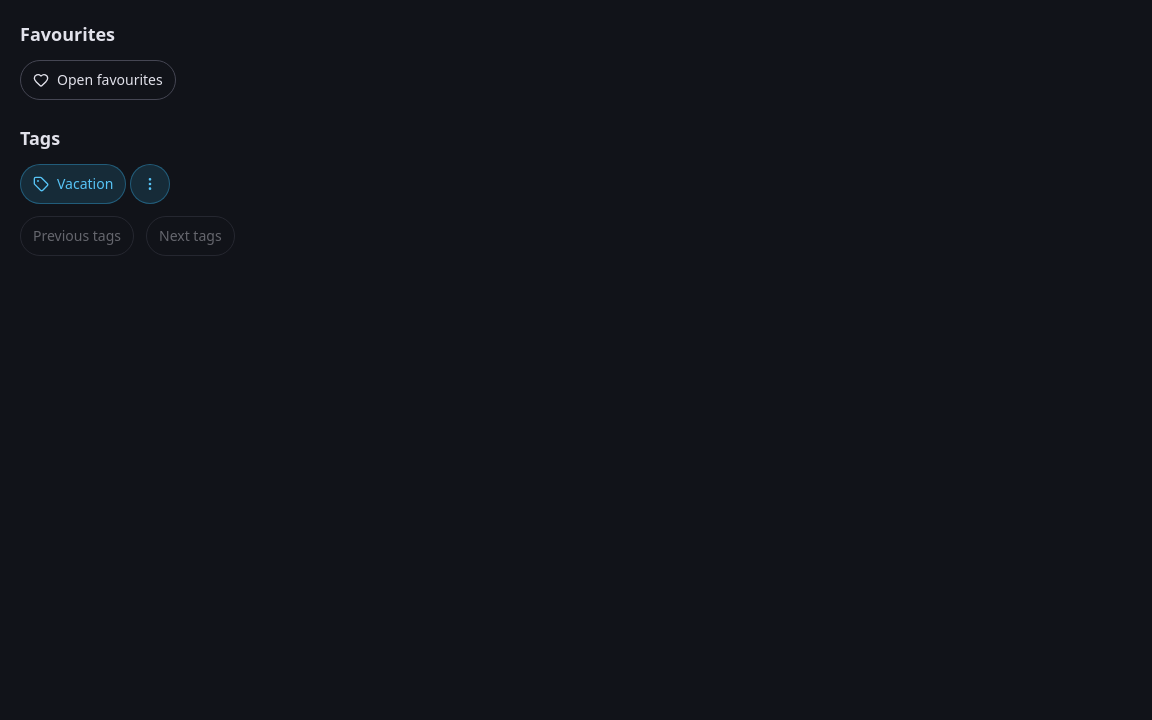
renames a tag from the manage dialog reached by its button
Click the button named "Manage tag Vacation": x=150, y=184 [130,164,170,204]
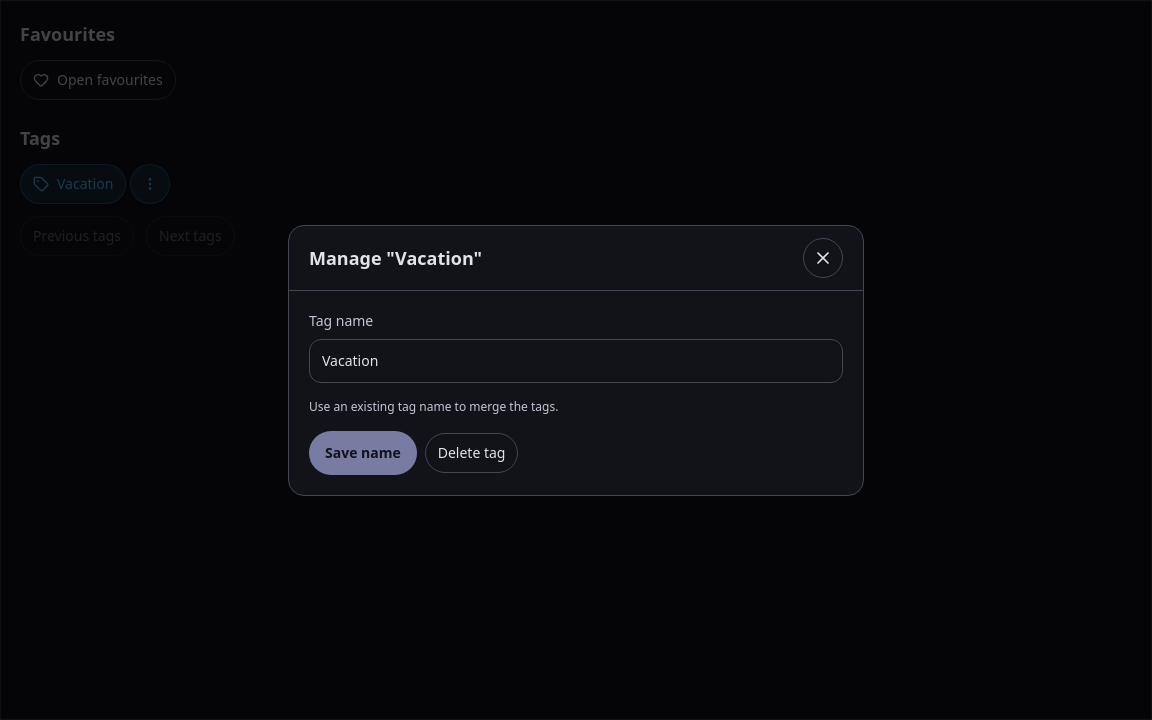
Replace the text in the field labelled "Tag name" with "Travel": x=576, y=360 [309,338,843,382]
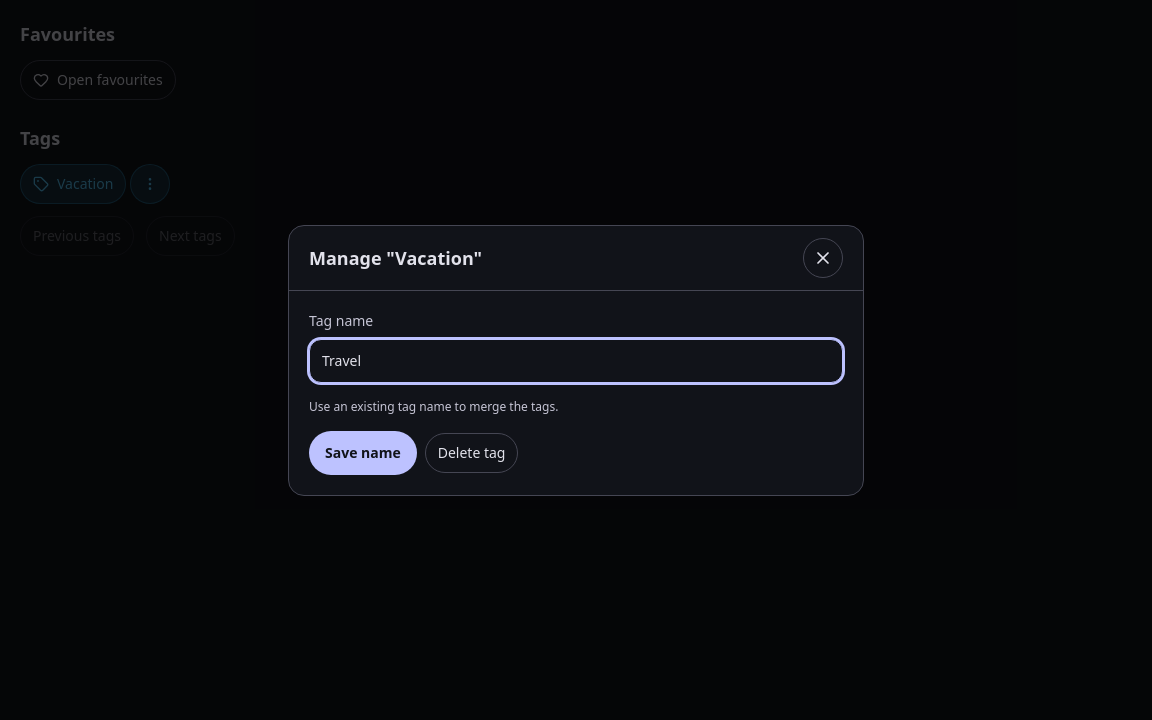
Click the button "Save name": x=363, y=452 [309,430,417,474]
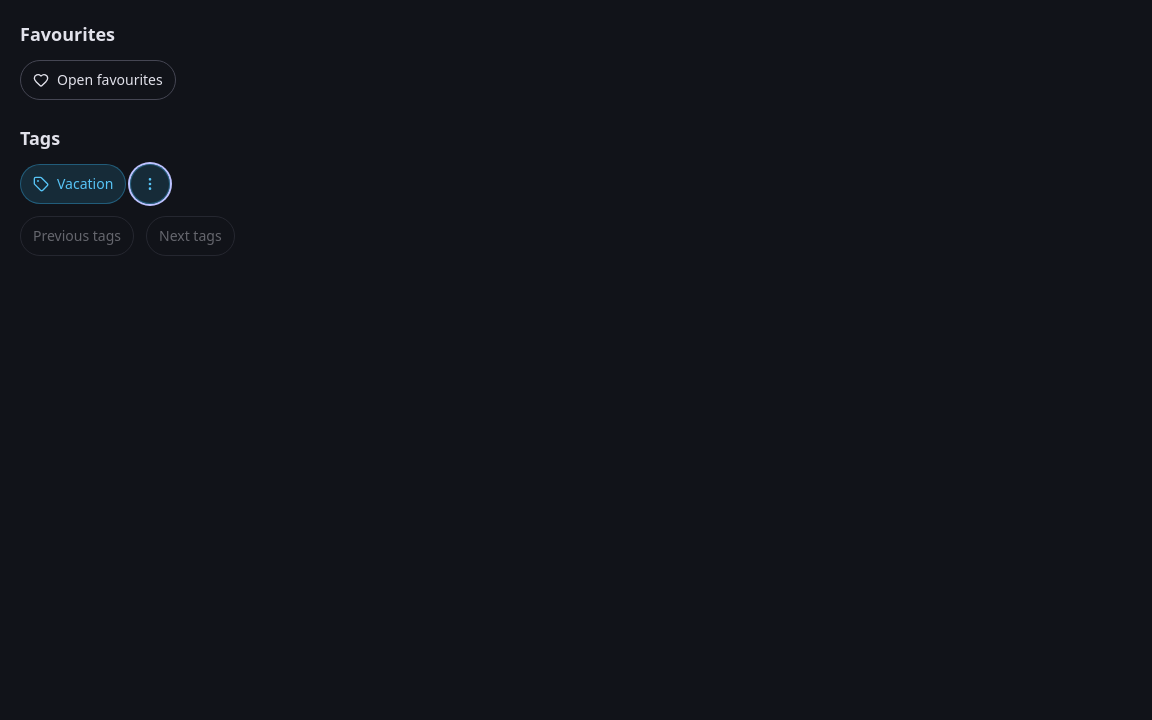
Expected: the dialog is gone
